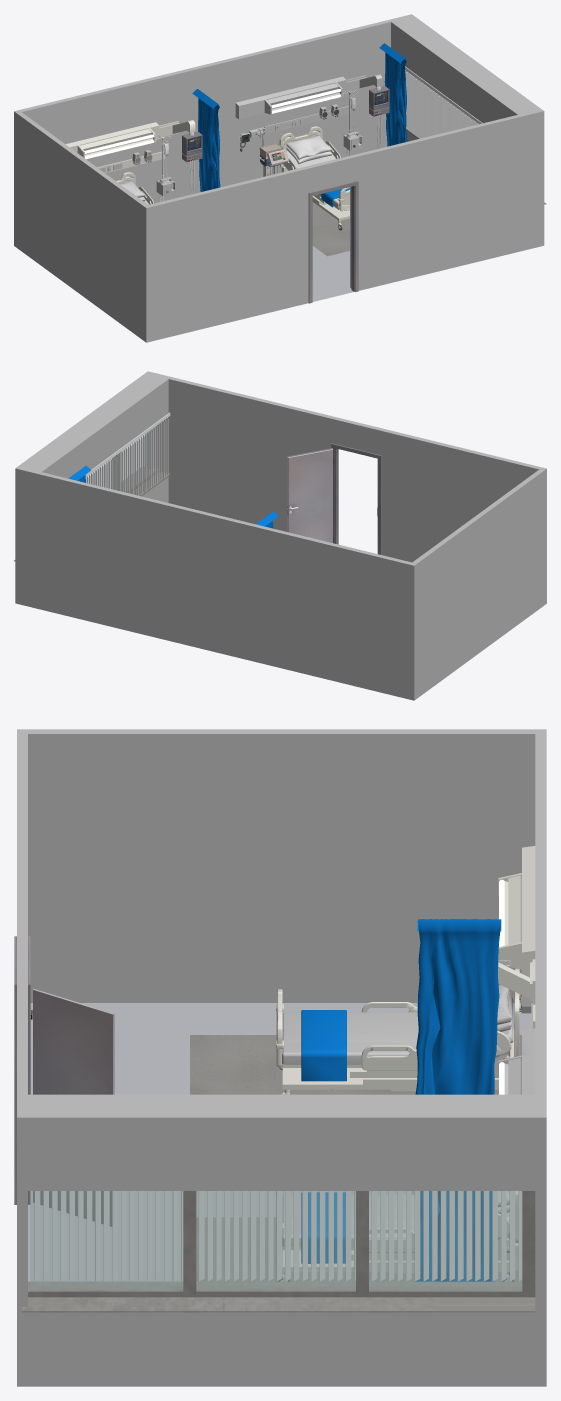
Rendered from Hospital_Room.glb.
3 views of the same model, one above another, from view 1: azimuth 30°, elevation 25°; view 2: azimuth 150°, elevation 25°; view 3: azimuth 270°, elevation 25° (orthographic). The views are drawn at different scales.
Parts seen in each view (by area): view 1: Object006, 000-0-0, Object007, Object009, Object008, door; view 2: Object006, door, boli; view 3: Object006, boli, Object007, Object009, 000-0-0, door, Object008.
Part boxes in pixels (box(x1,y1,x2,y2)): Object006: box(14, 14, 546, 342); 000-0-0: box(84, 74, 389, 230); Object007: box(65, 120, 202, 204); Object009: box(192, 89, 220, 191); Object008: box(379, 43, 407, 146); door: box(308, 181, 358, 303); Object006: box(14, 371, 546, 700); door: box(287, 443, 381, 554); boli: box(86, 426, 155, 491); Object006: box(17, 729, 546, 1386); boli: box(30, 1191, 522, 1289); Object007: box(276, 846, 535, 1094); Object009: box(415, 919, 501, 1094); 000-0-0: box(276, 879, 535, 1281); door: box(14, 936, 114, 1226); Object008: box(415, 1191, 493, 1281).
Size of the model in its own units: 164 by 52.33 by 93.75.
33 materials, 19 textured.
